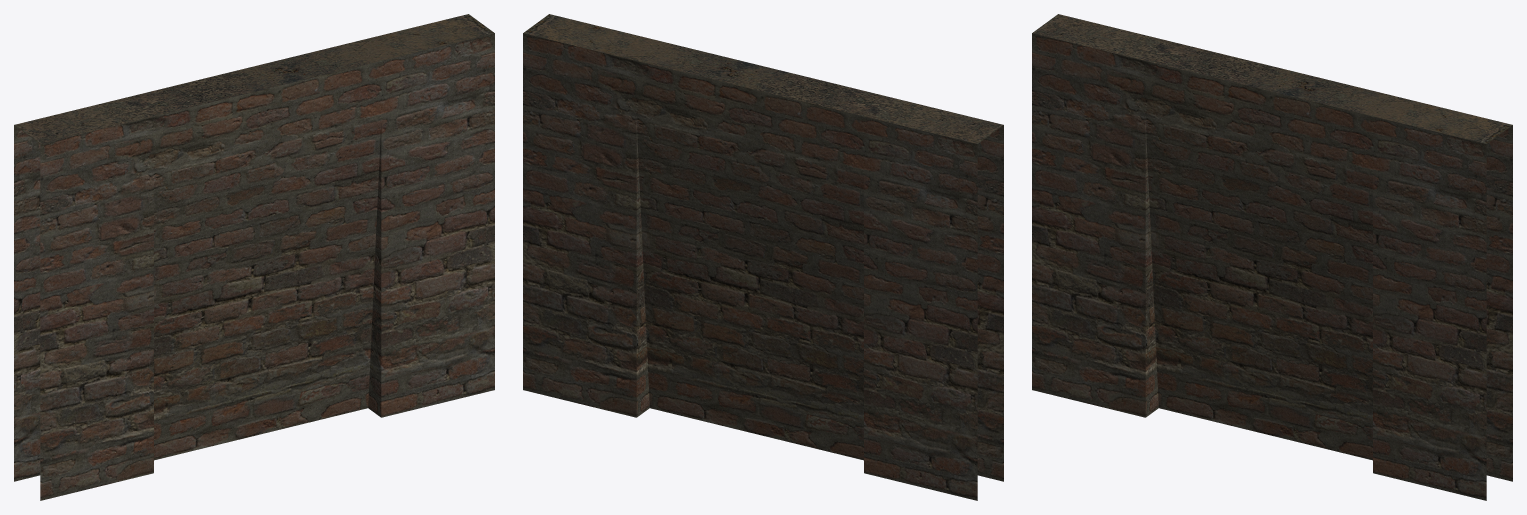
The model's file is wall_hr_1_t_2.obj.
3 renders of one model, left to right at view 1: azimuth 30°, elevation 25°; view 2: azimuth 150°, elevation 25°; view 3: azimuth 330°, elevation 25°, orthographic.
Parts seen in each view (by area): view 1: wall_hr_1_t_2; view 2: wall_hr_1_t_2; view 3: wall_hr_1_t_2.
Boxes of the visible parts, x1,y1,x2,y2 form: wall_hr_1_t_2: [14, 14, 494, 500]; wall_hr_1_t_2: [523, 14, 1003, 500]; wall_hr_1_t_2: [1032, 14, 1512, 500].
Size of the model in its own units: 4 by 3 by 0.4.
